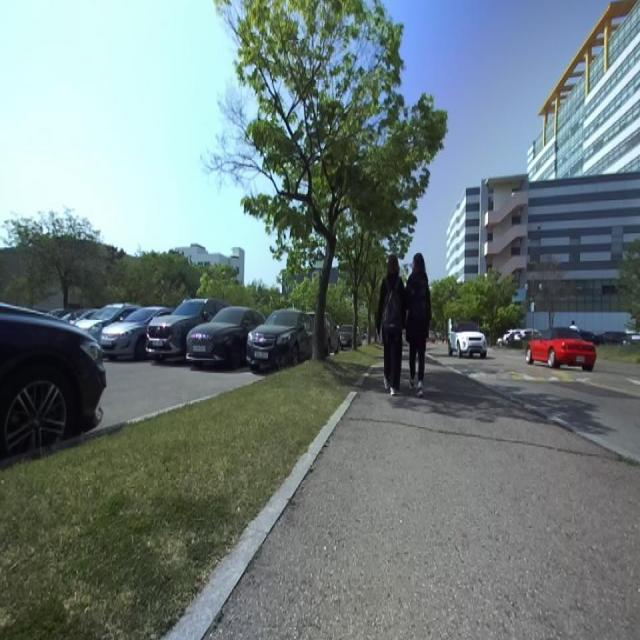sidewalk: (208, 359, 640, 639)
